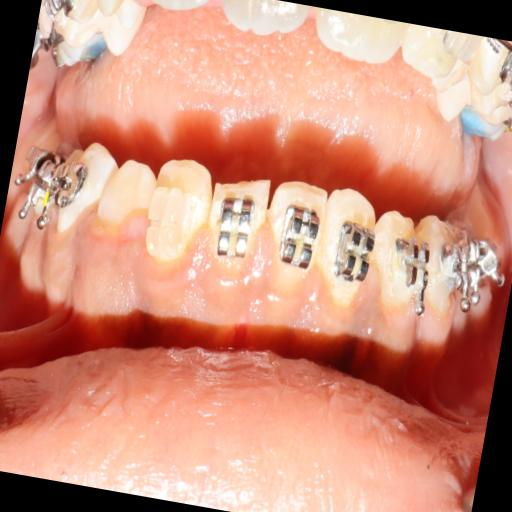correct_brace: (272, 196, 326, 273), (328, 213, 380, 289), (210, 186, 258, 268), (389, 230, 436, 297)
incorrect_brace: (309, 183, 386, 311), (138, 147, 220, 267)
